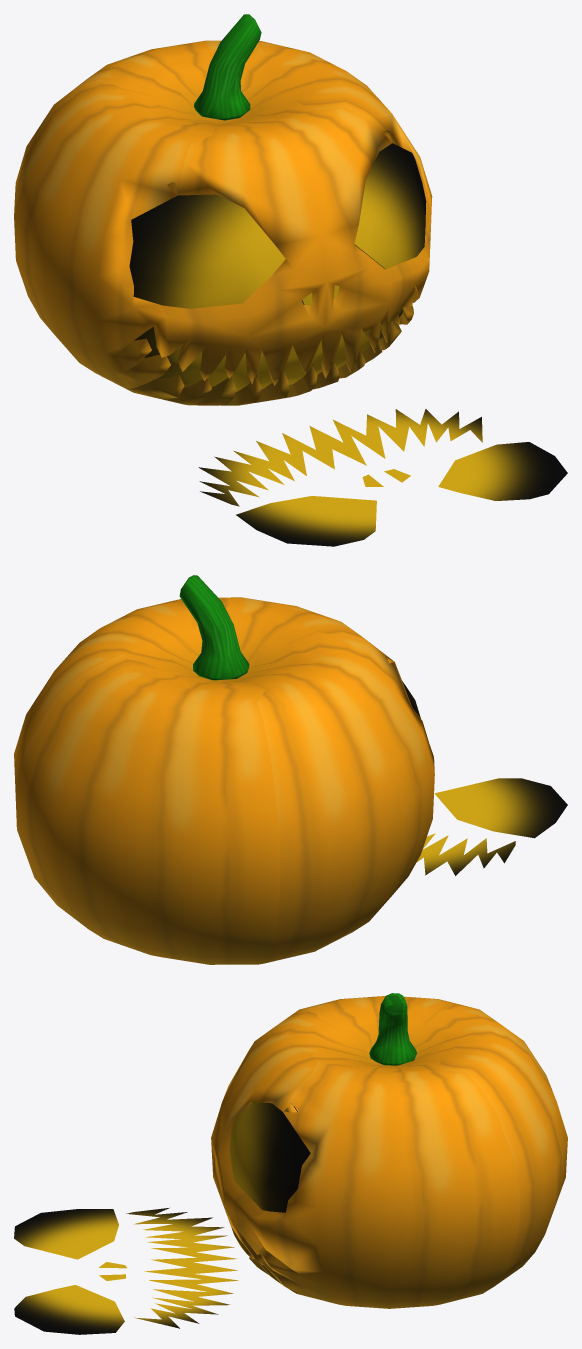
Rendered from jackolantern03-S.fbx.
The picture shows the model from 3 angles, top to bottom: view 1: azimuth 30°, elevation 25°; view 2: azimuth 150°, elevation 25°; view 3: azimuth 270°, elevation 25°; orthographic projection. The views are drawn at different scales.
Parts seen in each view (by area): view 1: Cube, Cube.001; view 2: Cube, Cube.001; view 3: Cube, Cube.001.
Boxes of the visible parts, x1=… form: Cube: x1=14, y1=14, x2=432, y2=405; Cube.001: x1=129, y1=130, x2=567, y2=546; Cube: x1=14, y1=575, x2=434, y2=964; Cube.001: x1=402, y1=681, x2=567, y2=875; Cube: x1=211, y1=993, x2=567, y2=1308; Cube.001: x1=14, y1=1102, x2=310, y2=1334.
Bounding box in the file's own units: 0.7945 × 0.7224 × 1.23.
